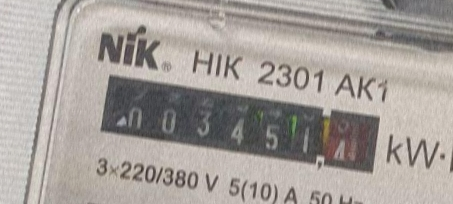0: (121, 102, 144, 131), (156, 105, 177, 135)
1: (294, 123, 313, 155)
3: (190, 106, 213, 139)
4: (224, 114, 247, 148), (325, 135, 348, 165)
5: (259, 120, 280, 152)
screen: (89, 69, 385, 181)
